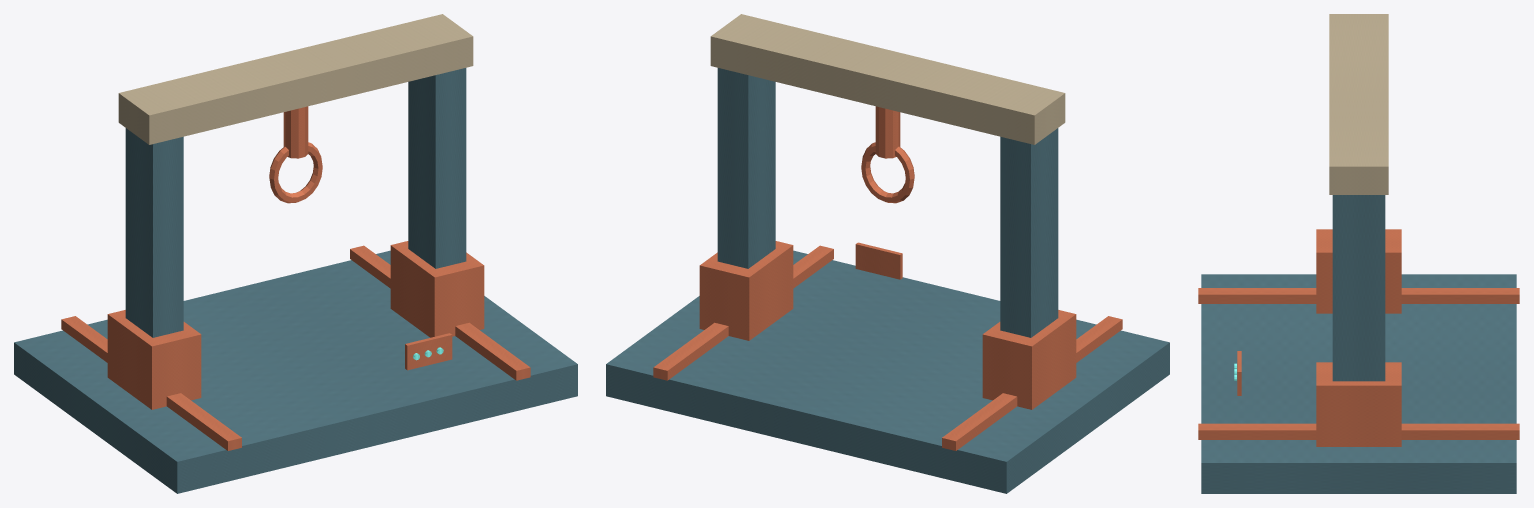
The model's file is atlas100-s044-a02.glb.
The picture shows the model from 3 angles, left to right: view 1: azimuth 30°, elevation 25°; view 2: azimuth 150°, elevation 25°; view 3: azimuth 270°, elevation 25°; orthographic projection. The views are drawn at different scales.
Visible parts, largest first — view 1: atlas100-s044-a02:part-000, atlas100-s044-a02:part-007, atlas100-s044-a02:part-003, atlas100-s044-a02:part-005, atlas100-s044-a02:part-004, atlas100-s044-a02:part-006, atlas100-s044-a02:part-001, atlas100-s044-a02:part-002, atlas100-s044-a02:part-009, atlas100-s044-a02:part-010, atlas100-s044-a02:part-008; view 2: atlas100-s044-a02:part-000, atlas100-s044-a02:part-007, atlas100-s044-a02:part-003, atlas100-s044-a02:part-005, atlas100-s044-a02:part-006, atlas100-s044-a02:part-004, atlas100-s044-a02:part-001, atlas100-s044-a02:part-002, atlas100-s044-a02:part-009, atlas100-s044-a02:part-010, atlas100-s044-a02:part-008; view 3: atlas100-s044-a02:part-000, atlas100-s044-a02:part-007, atlas100-s044-a02:part-005, atlas100-s044-a02:part-006, atlas100-s044-a02:part-002, atlas100-s044-a02:part-001, atlas100-s044-a02:part-004.
Boxes of the visible parts, x1=… form: atlas100-s044-a02:part-000: x1=14, y1=250, x2=577, y2=493; atlas100-s044-a02:part-007: x1=118, y1=14, x2=473, y2=144; atlas100-s044-a02:part-003: x1=125, y1=128, x2=183, y2=337; atlas100-s044-a02:part-005: x1=408, y1=68, x2=466, y2=268; atlas100-s044-a02:part-004: x1=107, y1=310, x2=201, y2=409; atlas100-s044-a02:part-006: x1=390, y1=241, x2=484, y2=337; atlas100-s044-a02:part-001: x1=61, y1=316, x2=241, y2=450; atlas100-s044-a02:part-002: x1=350, y1=245, x2=530, y2=380; atlas100-s044-a02:part-009: x1=269, y1=142, x2=322, y2=203; atlas100-s044-a02:part-010: x1=405, y1=333, x2=452, y2=370; atlas100-s044-a02:part-008: x1=283, y1=106, x2=308, y2=158; atlas100-s044-a02:part-000: x1=606, y1=250, x2=1169, y2=493; atlas100-s044-a02:part-007: x1=710, y1=14, x2=1065, y2=144; atlas100-s044-a02:part-003: x1=1000, y1=128, x2=1058, y2=337; atlas100-s044-a02:part-005: x1=717, y1=68, x2=775, y2=268; atlas100-s044-a02:part-006: x1=699, y1=241, x2=793, y2=340; atlas100-s044-a02:part-004: x1=982, y1=310, x2=1076, y2=409; atlas100-s044-a02:part-001: x1=942, y1=316, x2=1122, y2=450; atlas100-s044-a02:part-002: x1=653, y1=245, x2=833, y2=380; atlas100-s044-a02:part-009: x1=861, y1=142, x2=914, y2=203; atlas100-s044-a02:part-010: x1=855, y1=242, x2=902, y2=279; atlas100-s044-a02:part-008: x1=875, y1=106, x2=900, y2=158; atlas100-s044-a02:part-000: x1=1201, y1=274, x2=1516, y2=493; atlas100-s044-a02:part-007: x1=1329, y1=14, x2=1388, y2=194; atlas100-s044-a02:part-005: x1=1332, y1=195, x2=1385, y2=381; atlas100-s044-a02:part-006: x1=1316, y1=362, x2=1401, y2=446; atlas100-s044-a02:part-002: x1=1198, y1=423, x2=1519, y2=439; atlas100-s044-a02:part-001: x1=1198, y1=288, x2=1519, y2=303; atlas100-s044-a02:part-004: x1=1316, y1=229, x2=1401, y2=313.
Bounding box in the file's own units: 3.4 × 2.6 × 2.45.
4 materials, 4 textured.
